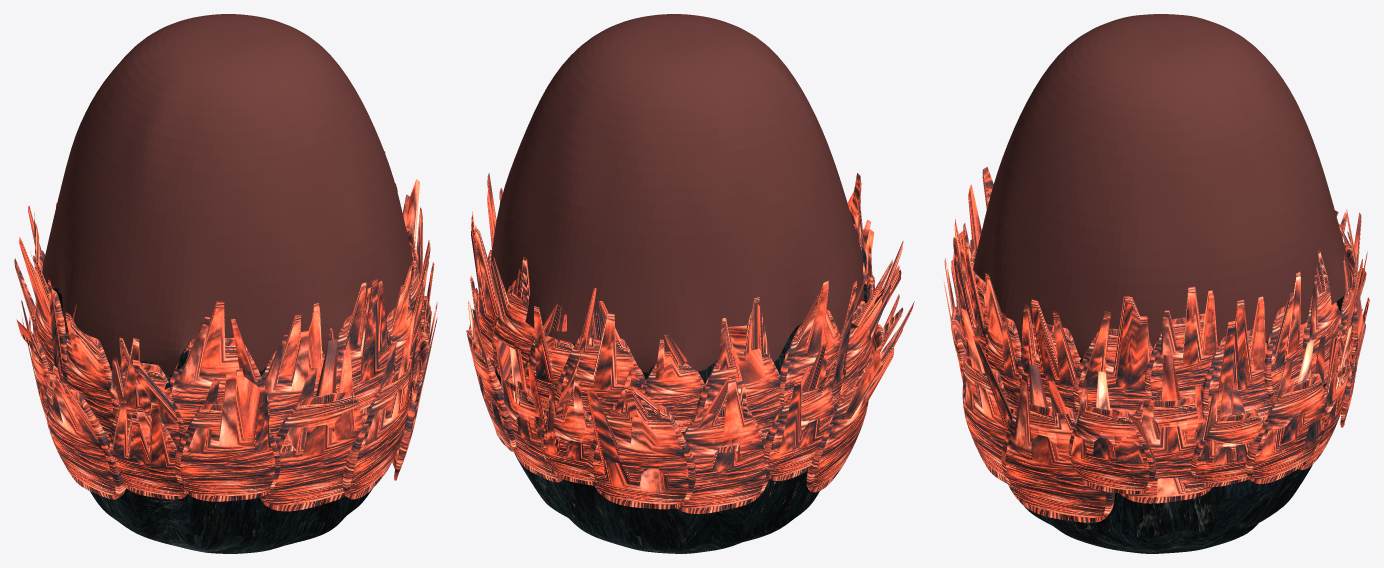
Rendered from Fire_egg.fbx.
3 renders of one model, left to right at view 1: azimuth 30°, elevation 25°; view 2: azimuth 150°, elevation 25°; view 3: azimuth 270°, elevation 25°, orthographic.
Visible parts, largest first — view 1: egg_top, Scales, egg_bottom; view 2: egg_top, Scales, egg_bottom; view 3: egg_top, Scales, egg_bottom.
Part boxes in pixels (<box>): egg_top: <box>42,14,413,375</box>; Scales: <box>14,151,437,511</box>; egg_bottom: <box>53,287,412,553</box>; egg_top: <box>490,14,864,372</box>; Scales: <box>466,158,914,513</box>; egg_bottom: <box>495,246,867,553</box>; egg_top: <box>973,14,1352,358</box>; Scales: <box>943,166,1369,522</box>; egg_bottom: <box>979,276,1343,553</box>.
Size of the model in its own units: 308 by 397 by 300.
Materials: 3 (2 with a texture image).
